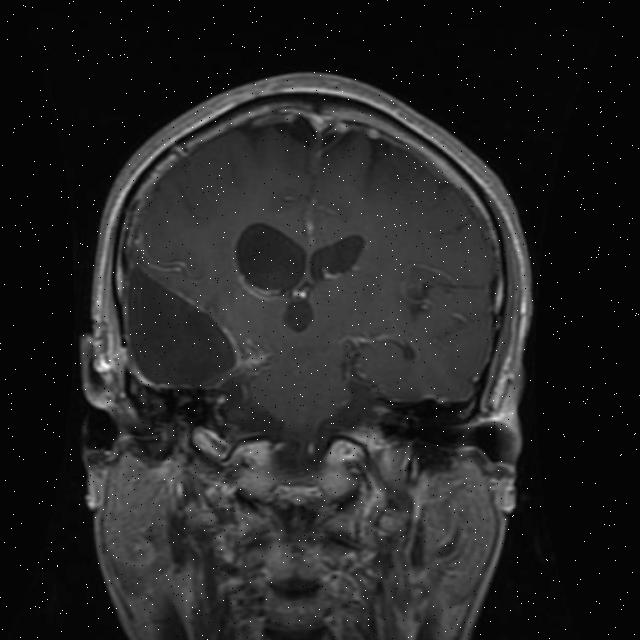Glioma: (119, 261, 243, 396)
